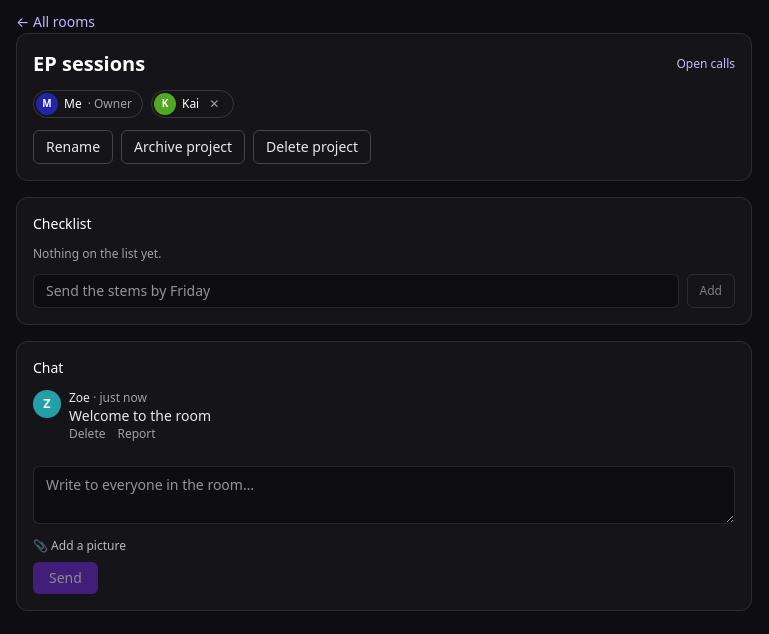
Test case: ProjectPage: the owner › renames the room
The width and height of the screenshot is (769, 634).
Click the button "Rename" at (73, 147), box [33, 130, 113, 164]
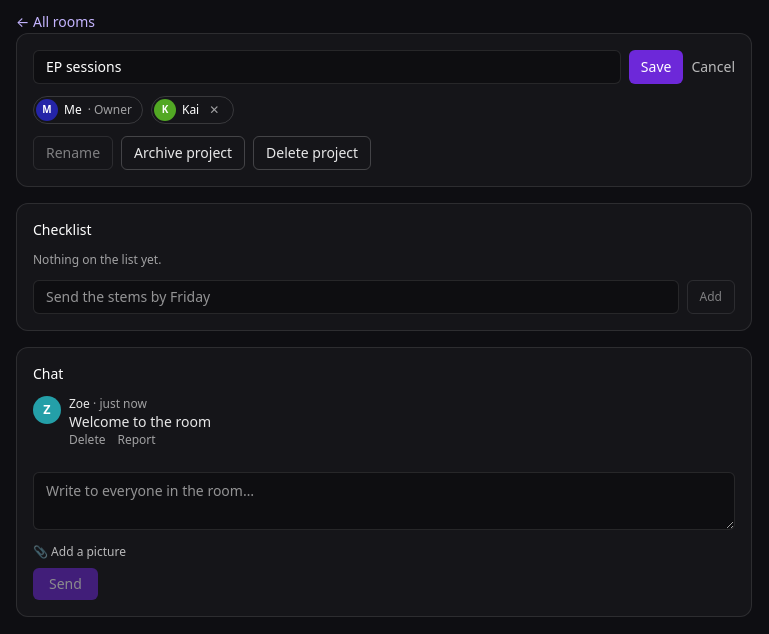
Replace the text in the field named "Project name" with "EP final" at (327, 67), box [33, 50, 621, 84]
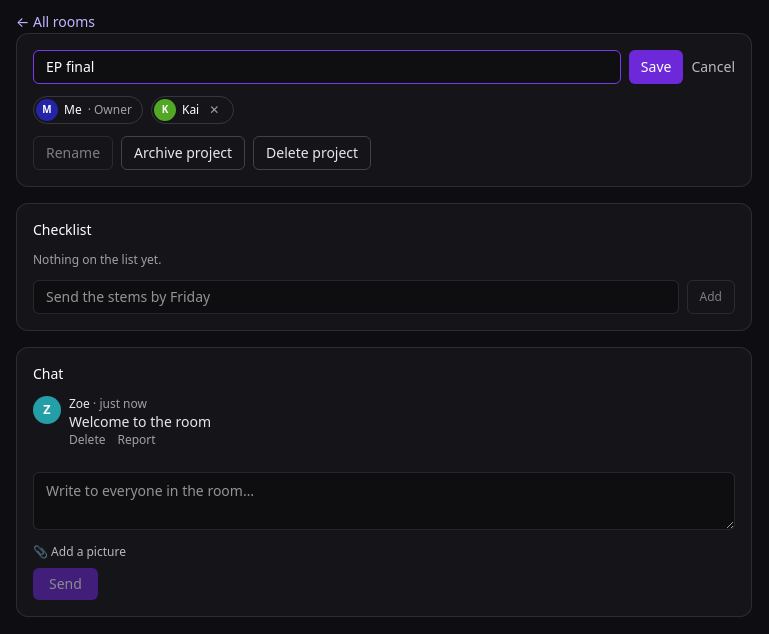
Click the button "Save" at (656, 67), box [629, 50, 683, 84]
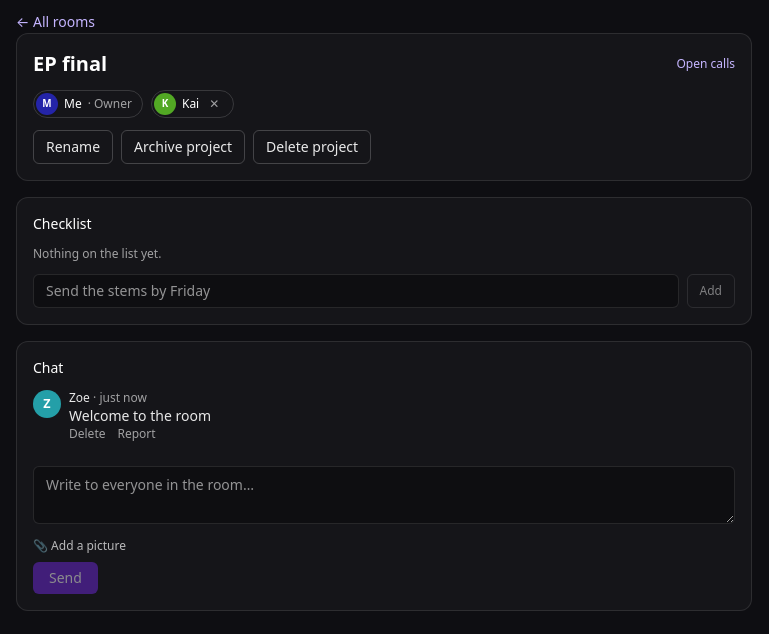
Expected: the heading "EP final" is shown, [33, 50, 107, 77]
